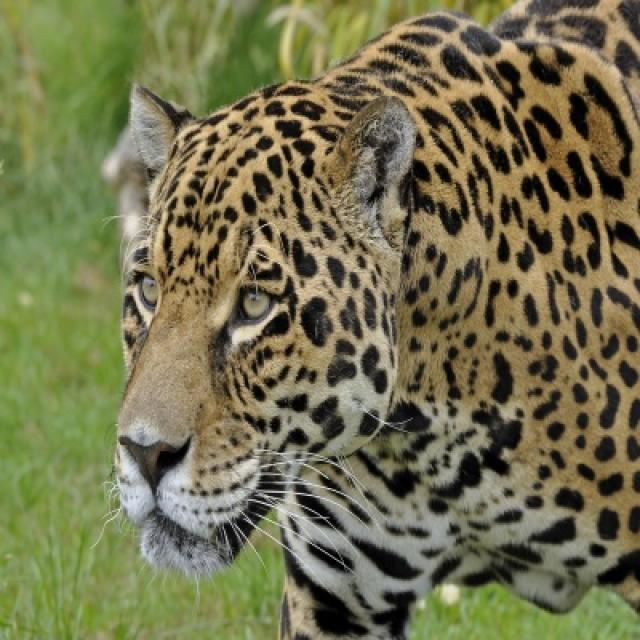Jaguar: (99, 0, 638, 638)
